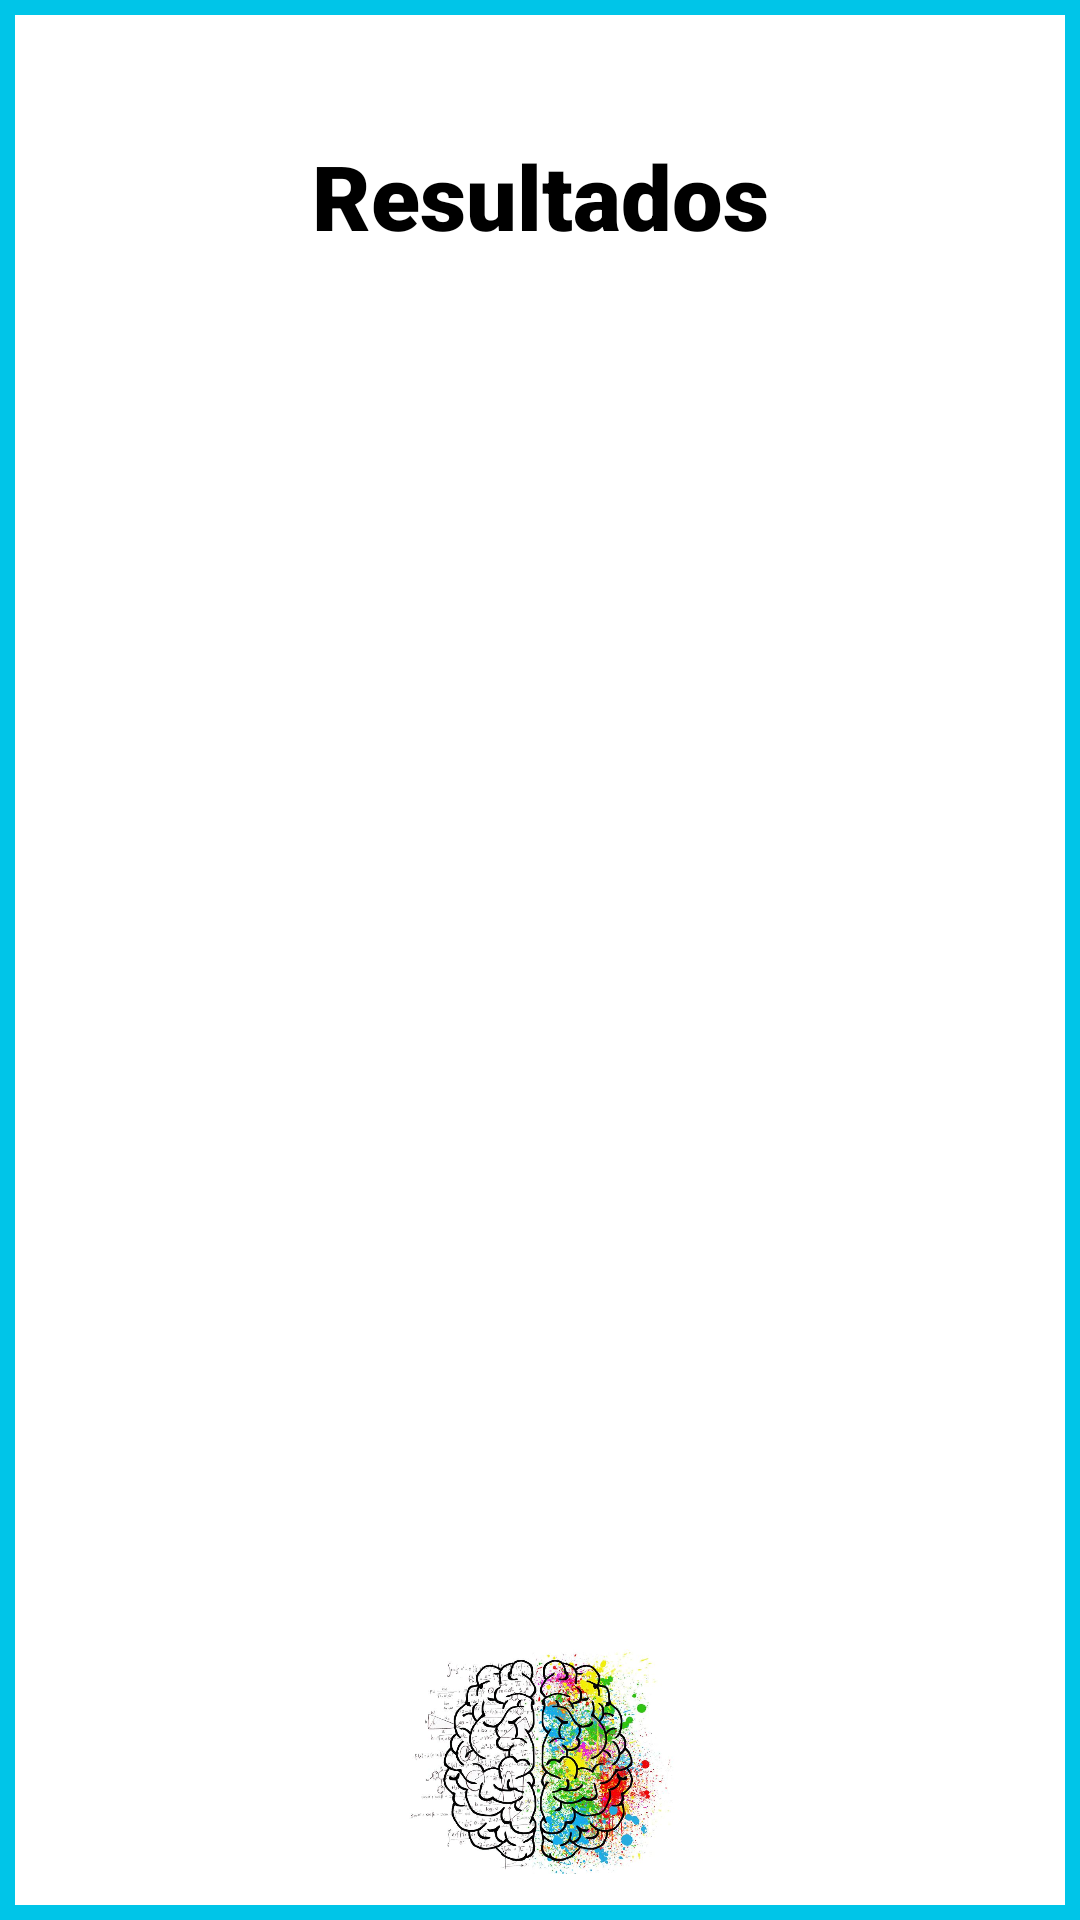

Screen size 1080w x 1920h. Icon name, then its box in pixels as (left=x1, top=y1, right=x2, bottom=y2):
cerebro: (left=411, top=1652, right=670, bottom=1874)
